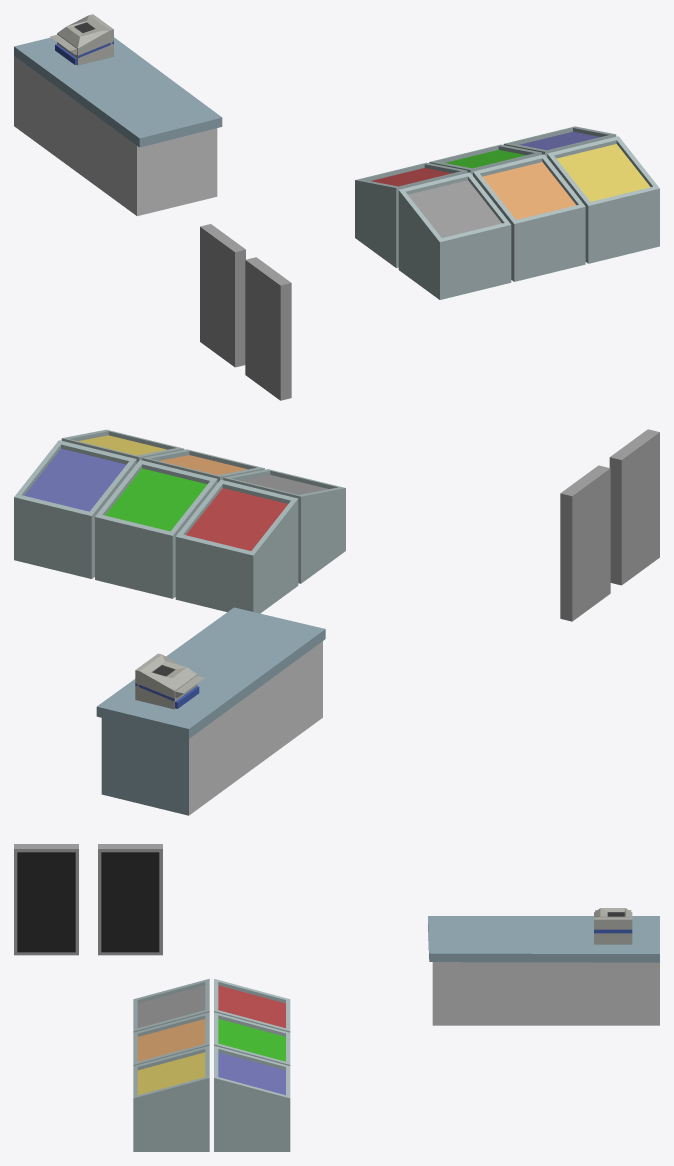
Rendered from Supermarket_Int (1).fbx.
3 renders of one model, top to bottom at view 1: azimuth 30°, elevation 25°; view 2: azimuth 150°, elevation 25°; view 3: azimuth 270°, elevation 25°, orthographic. The views are drawn at different scales.
Parts seen in each view (by area): view 1: Counter, Stall_D, Doors, Stall_E, Stall_F, Stall_C, CashRegister, Stall_A, Stall_B; view 2: Counter, Stall_C, Doors, Stall_A, Stall_B, Stall_D, CashRegister, Stall_E, Stall_F; view 3: Counter, Doors, Stall_F, Stall_A, Stall_D, Stall_B, Stall_C, Stall_E, CashRegister.
Part boxes in pixels (x1,y1,x2,y2): Counter: [14, 37, 222, 216]; Stall_D: [398, 172, 511, 299]; Doors: [200, 224, 291, 400]; Stall_E: [473, 154, 585, 281]; Stall_F: [547, 136, 659, 263]; Stall_C: [355, 162, 467, 267]; CashRegister: [50, 14, 113, 65]; Stall_A: [503, 126, 616, 157]; Stall_B: [429, 144, 541, 175]; Counter: [96, 607, 325, 815]; Stall_C: [175, 479, 298, 613]; Doors: [560, 429, 659, 621]; Stall_A: [14, 440, 136, 578]; Stall_B: [95, 460, 217, 598]; Stall_D: [223, 469, 345, 583]; CashRegister: [135, 653, 204, 709]; Stall_E: [142, 449, 264, 482]; Stall_F: [61, 429, 184, 463]; Counter: [428, 916, 659, 1025]; Doors: [14, 844, 162, 955]; Stall_F: [133, 1045, 209, 1151]; Stall_A: [214, 1045, 290, 1151]; Stall_D: [133, 978, 209, 1032]; Stall_B: [214, 1012, 290, 1065]; Stall_C: [214, 979, 290, 1032]; Stall_E: [133, 1012, 209, 1065]; CashRegister: [594, 908, 632, 944].
Bounding box in the file's own units: 1106 × 278 × 1509.
